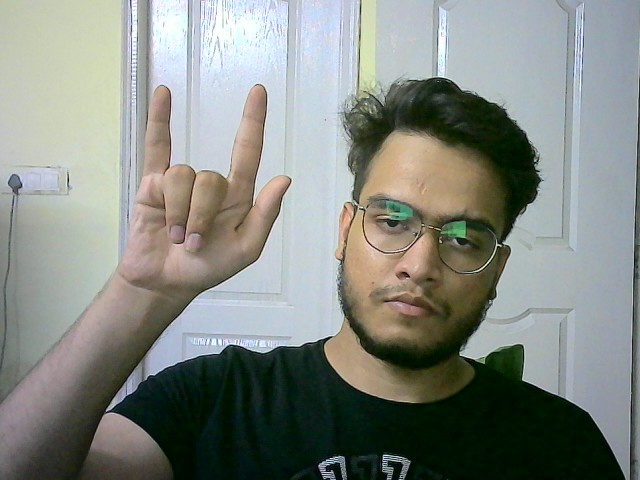I Love You: (120, 80, 296, 296)
